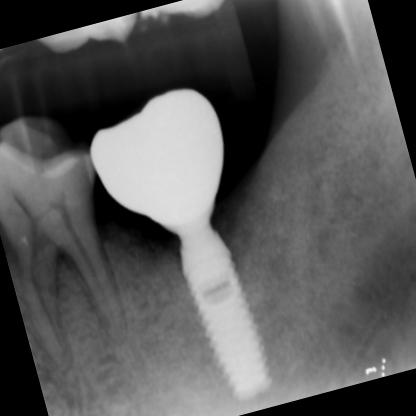Bicon: (165, 221, 283, 408)
